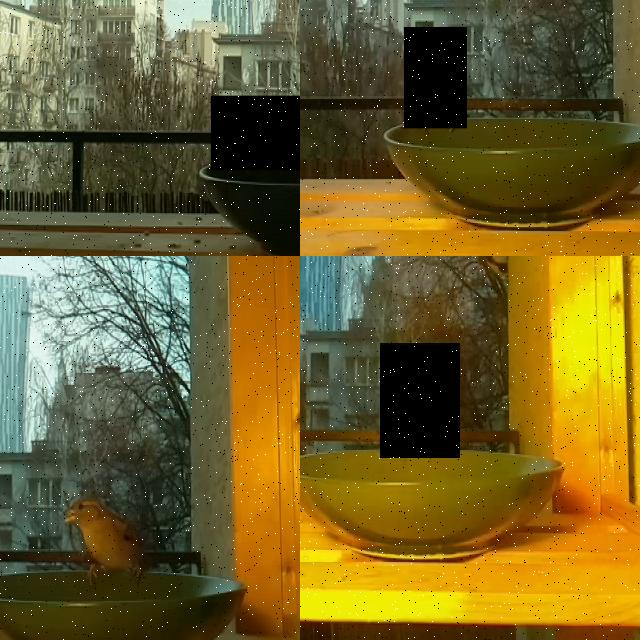Bogatka: (404, 27, 467, 128)
Modraszka: (380, 343, 460, 458)
Wrobel: (64, 497, 154, 582), (211, 95, 300, 170)
